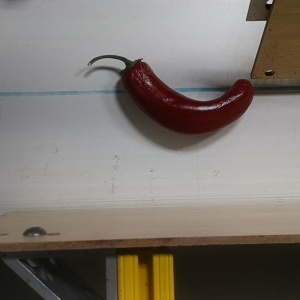Cut Point: (117, 56, 151, 85)
